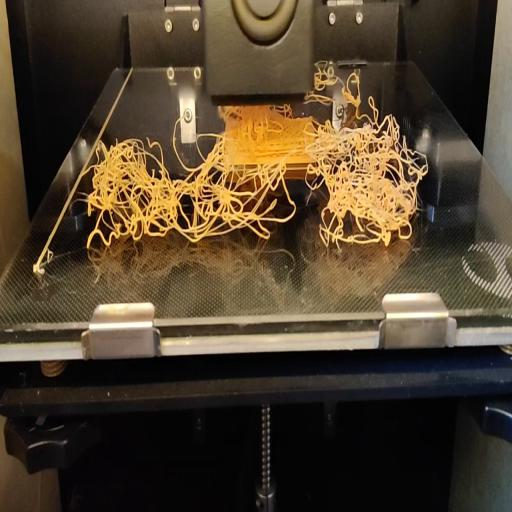spaghetti: (90, 103, 426, 245), (313, 58, 360, 102)
